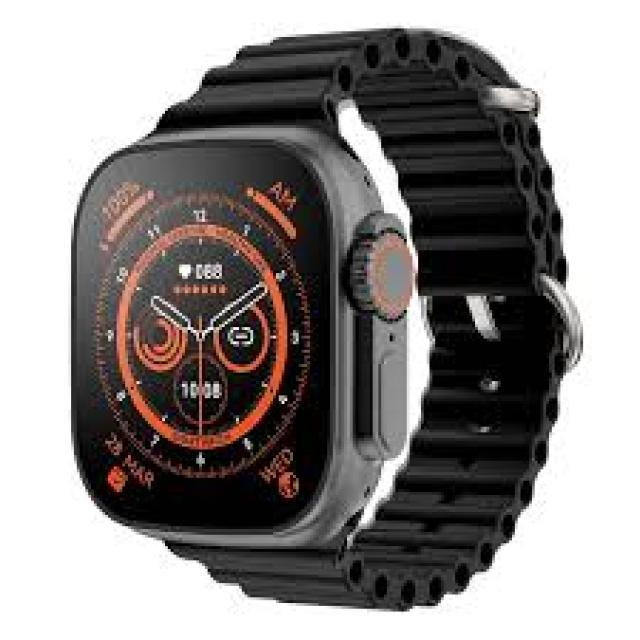objects: (71, 28, 580, 609)
